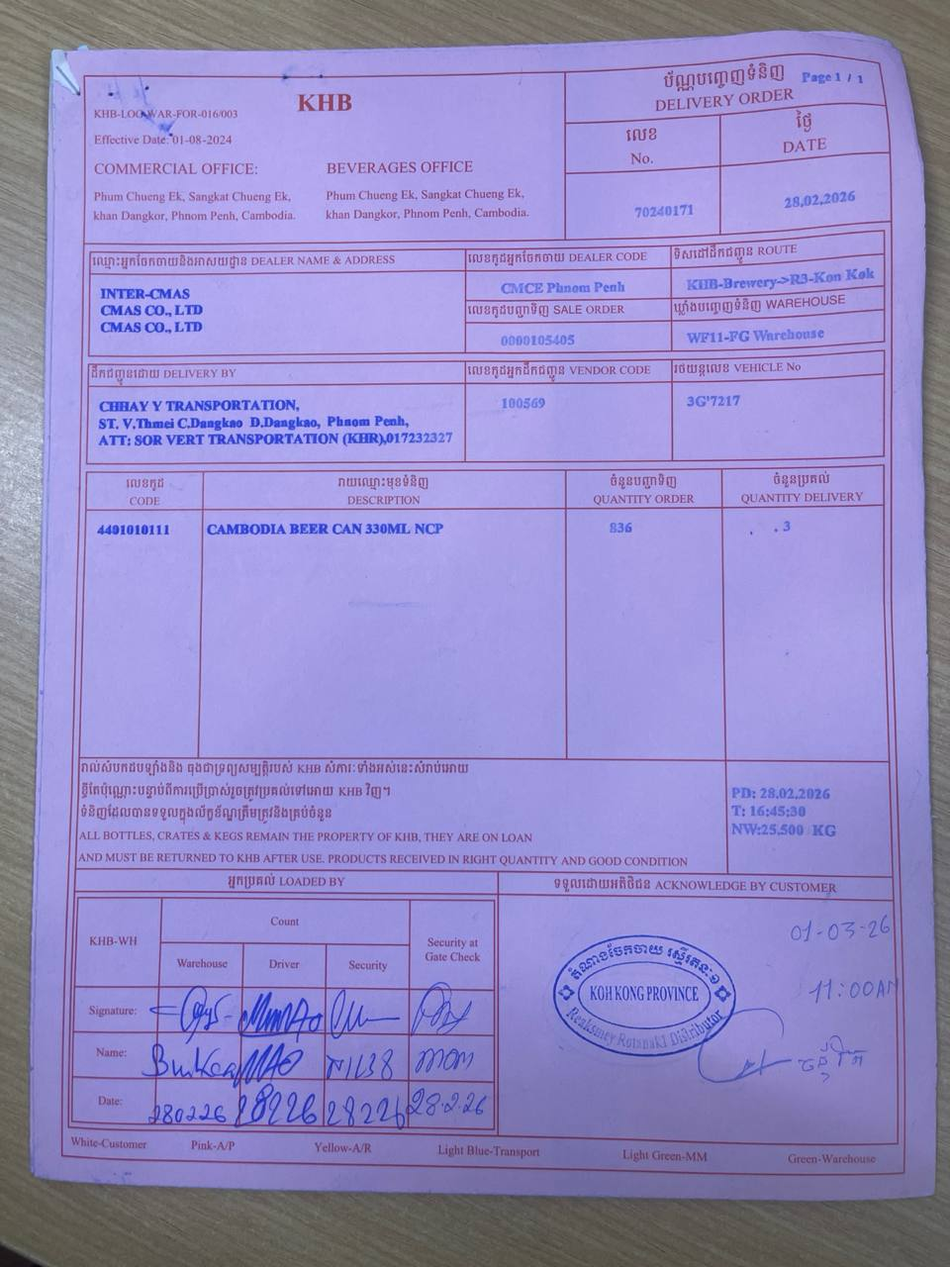Dealer Code: (461, 233, 672, 293)
Invoice Date: (718, 154, 891, 237)
Invoice No: (561, 167, 720, 239)
Sale Order: (461, 292, 672, 357)
Vehicle Code: (671, 354, 891, 464)
Vender Code: (462, 355, 673, 468)
